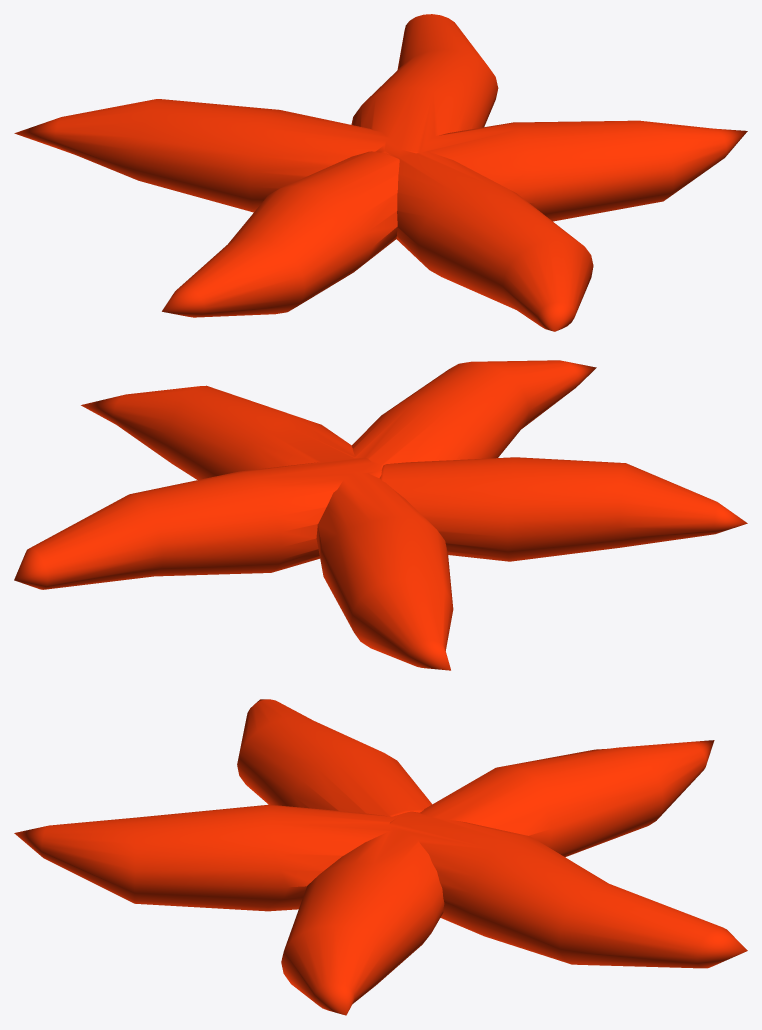
The model's file is acidification.gltf.
3 views of the same model, one above another, from view 1: azimuth 30°, elevation 25°; view 2: azimuth 150°, elevation 25°; view 3: azimuth 270°, elevation 25° (orthographic). The views are drawn at different scales.
Size of the model in its own units: 6.97 by 0.9842 by 6.91.
